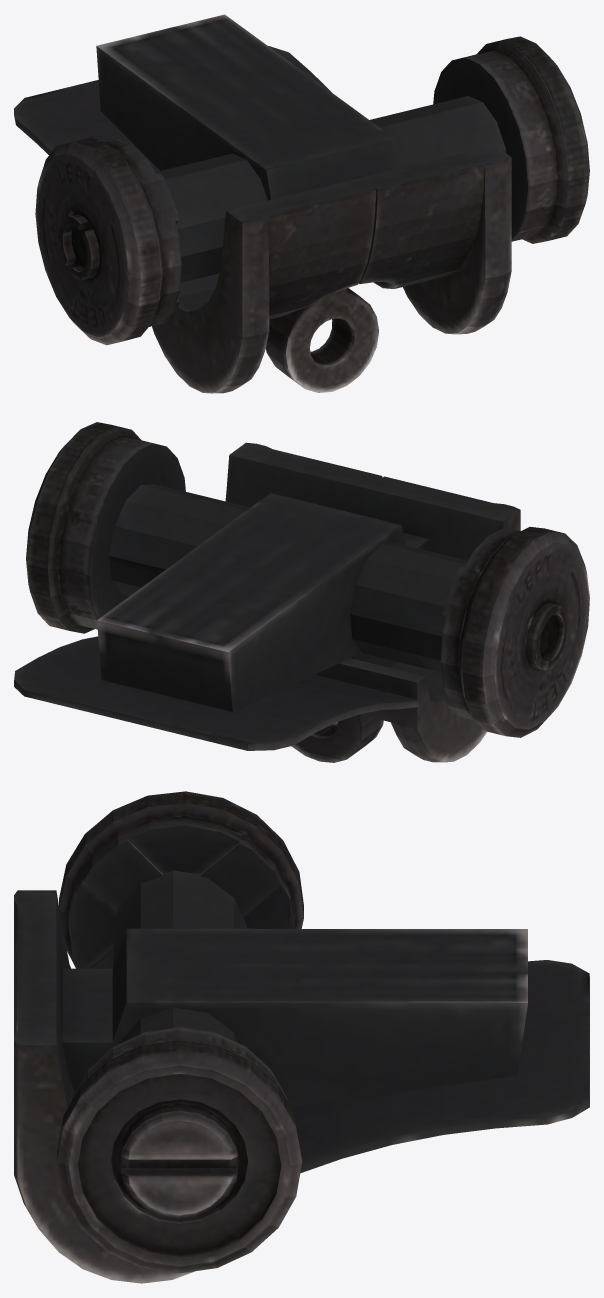
The picture shows the model from 3 angles, top to bottom: view 1: azimuth 30°, elevation 25°; view 2: azimuth 150°, elevation 25°; view 3: azimuth 270°, elevation 25°; orthographic projection. The views are drawn at different scales.
Parts seen in each view (by area): view 1: TW_5abcbb20d8ce87001773e258_PZ_Import; view 2: TW_5abcbb20d8ce87001773e258_PZ_Import; view 3: TW_5abcbb20d8ce87001773e258_PZ_Import.
Part boxes in pixels (x1,y1,x2,y2): TW_5abcbb20d8ce87001773e258_PZ_Import: [14, 14, 589, 393]; TW_5abcbb20d8ce87001773e258_PZ_Import: [14, 422, 589, 762]; TW_5abcbb20d8ce87001773e258_PZ_Import: [14, 791, 589, 1283].
Bounding box in the file's own units: 0.0288 × 0.0258 × 0.0162.
1 material, 1 textured.
